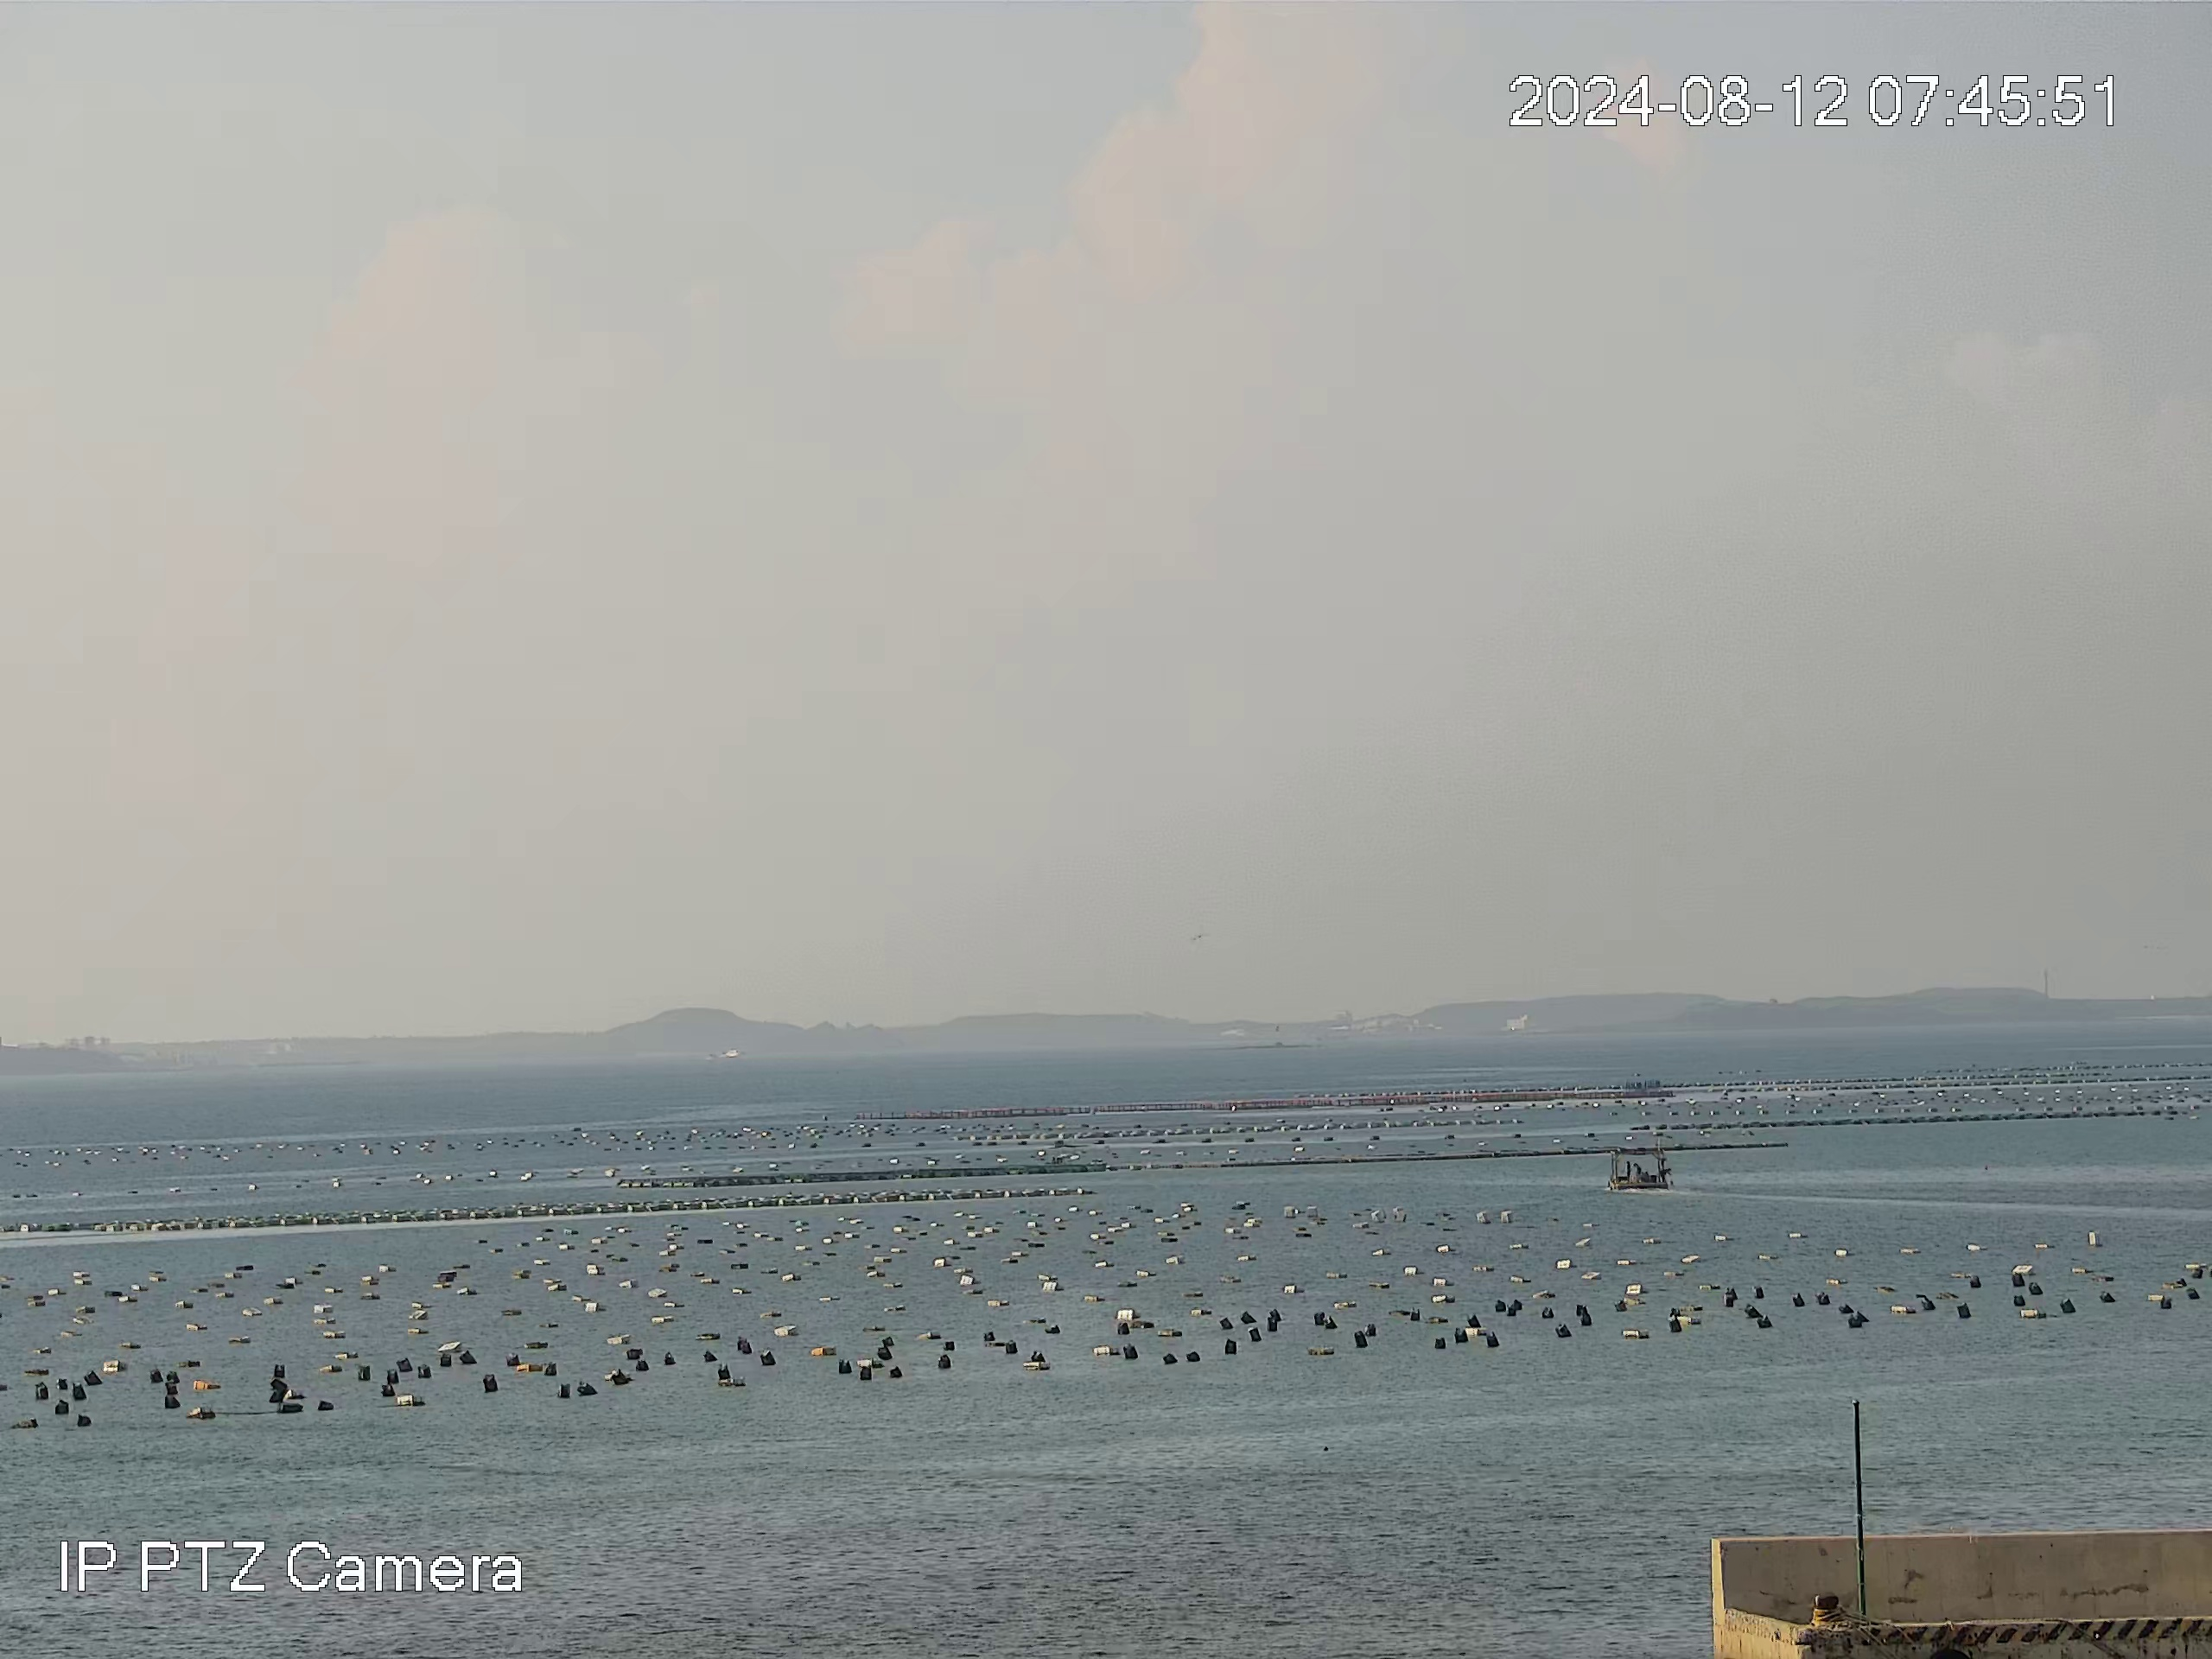boat: (1608, 1146, 1673, 1190)
